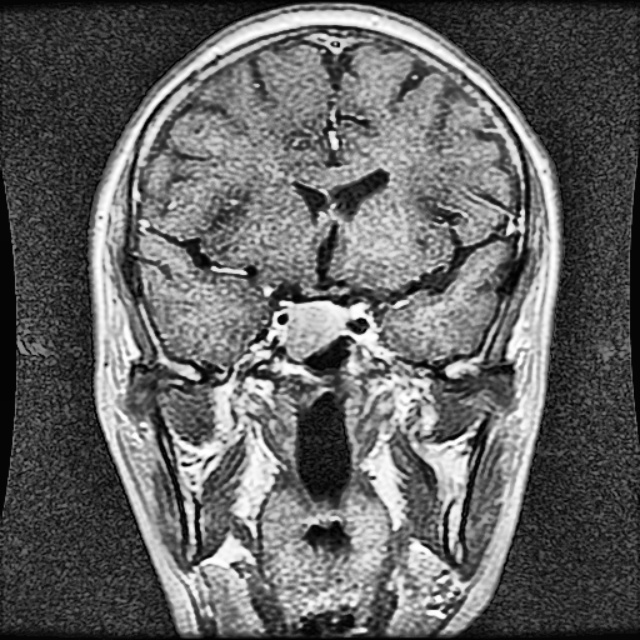Pituitary: (283, 299, 348, 362)
